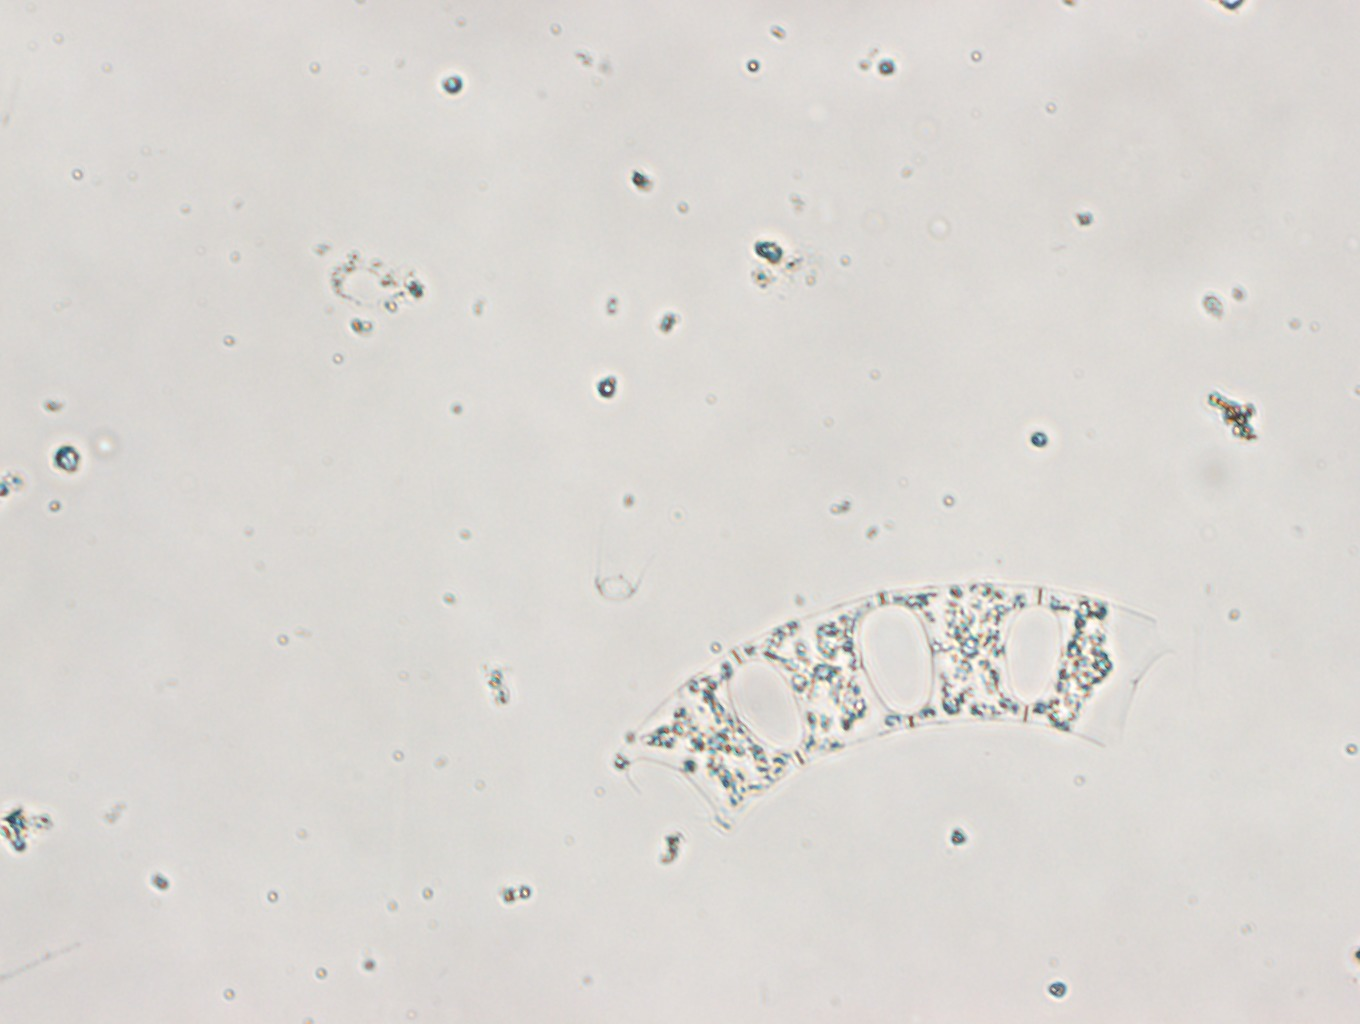eucampia: (610, 578, 1179, 843)
